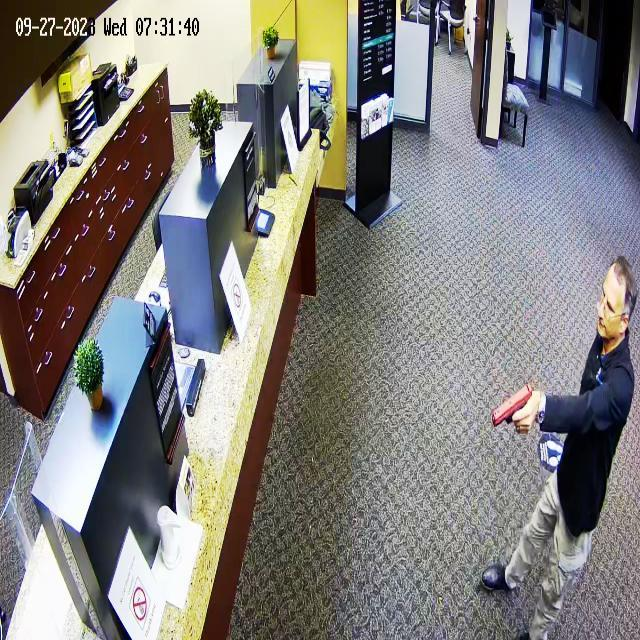Gun: (491, 373, 548, 449)
